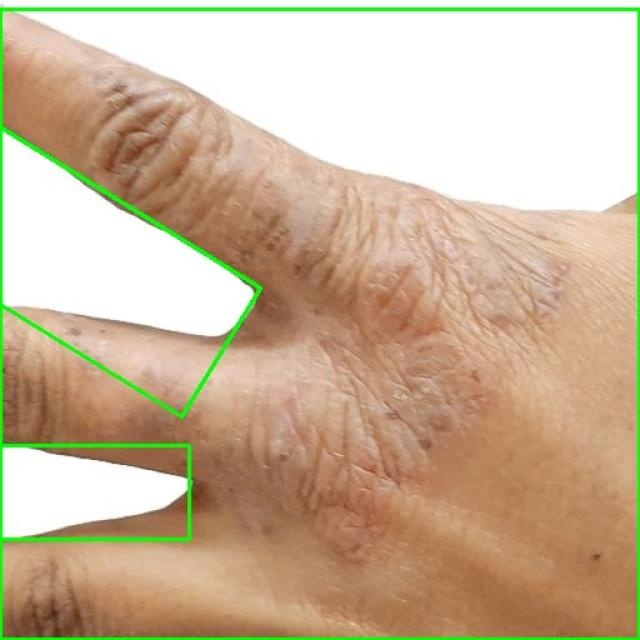Eczema: (0, 9, 639, 639), (0, 90, 280, 417), (0, 445, 189, 539)
